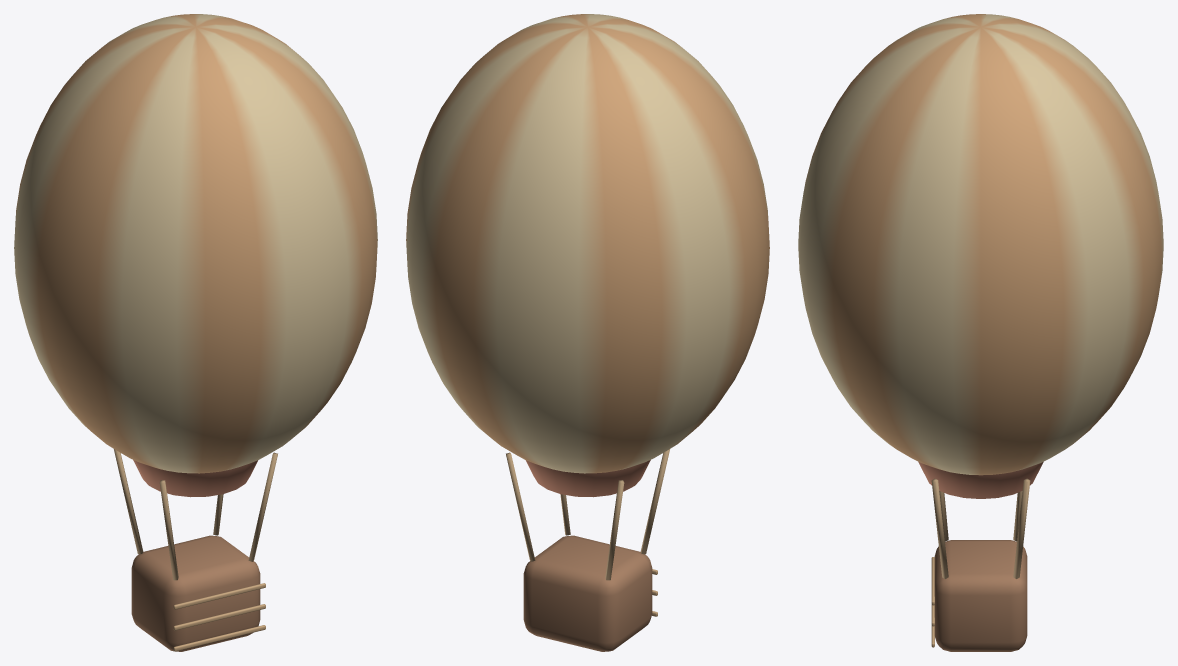
Rendered from balloon.glb.
3 views of the same model, side by side, from view 1: azimuth 30°, elevation 25°; view 2: azimuth 150°, elevation 25°; view 3: azimuth 270°, elevation 25° (orthographic).
Visible parts, largest first — view 1: food_balloon_painted_mesh; view 2: food_balloon_painted_mesh; view 3: food_balloon_painted_mesh.
Part boxes in pixels (box(x1,y1,x2,y2)): food_balloon_painted_mesh: box(14, 14, 377, 651); food_balloon_painted_mesh: box(406, 14, 769, 651); food_balloon_painted_mesh: box(798, 14, 1163, 651).
Bounding box in the file's own units: 1.34 × 2.45 × 1.34.
